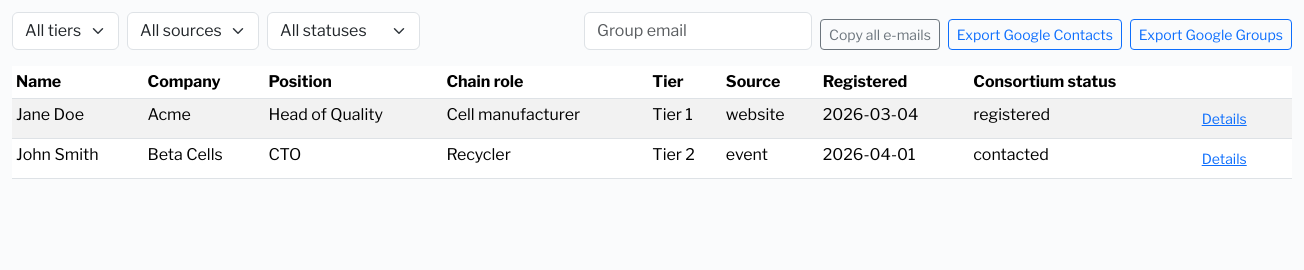
Scenario: ConsortiumRegistrations › reports a clipboard failure without throwing
This screenshot has width=1304, height=270.
Click the button "Copy all e-mails" at (880, 34), box [820,19,940,50]
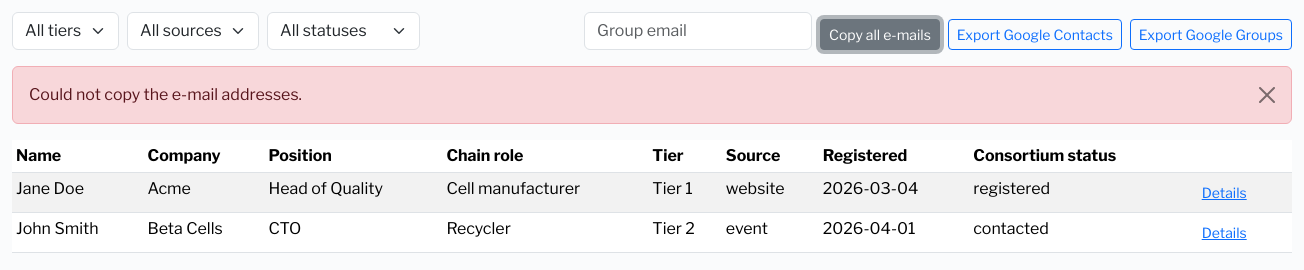
Expected: the text "Could not copy the e-mail addresses." is shown, [12,66,1292,124]
